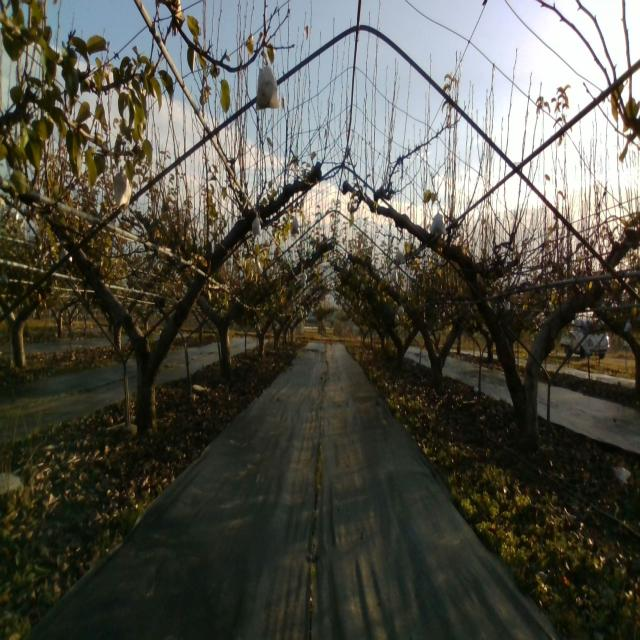pearbags: (254, 64, 280, 110), (113, 173, 131, 216), (429, 212, 447, 238)
